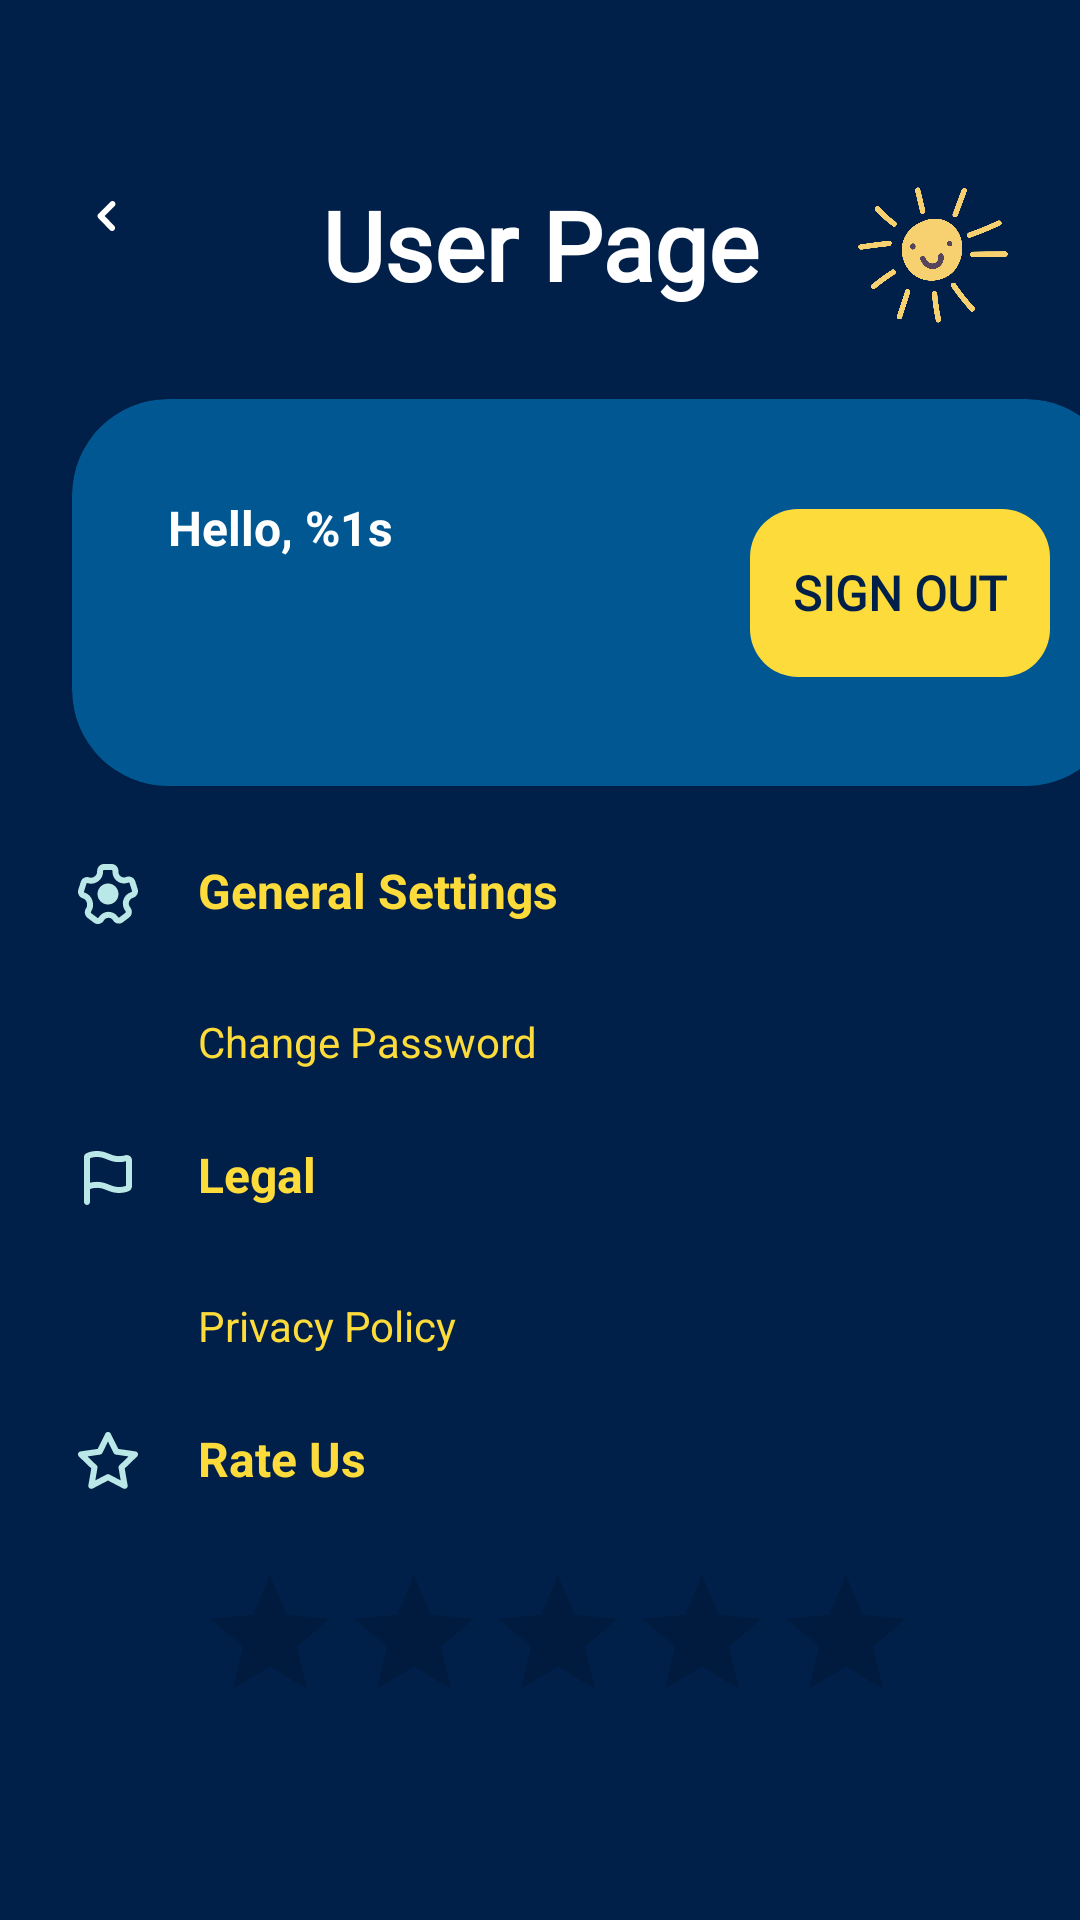

Screen size 1080px x 1920px. Icon name, then its box in pixels as [x1,y1,x2,y2]:
arrow return page: [97,201,116,231]
flag: [84,1151,132,1205]
rate star: [78,1432,138,1489]
